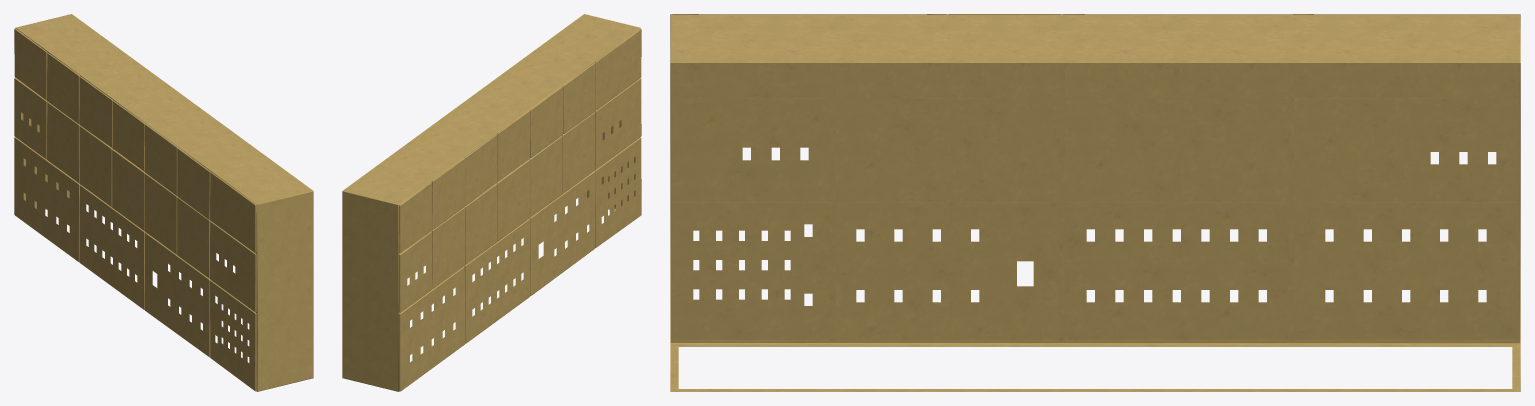
The model's file is YellowComputer.fbx.
The picture shows the model from 3 angles, left to right: view 1: azimuth 30°, elevation 25°; view 2: azimuth 150°, elevation 25°; view 3: azimuth 270°, elevation 25°; orthographic projection. The views are drawn at different scales.
Visible parts, largest first — view 1: Frame_Куб, Middle_Doors_Gen_Куб_054, Middle_Doors_Gen_Куб_001; view 2: Frame_Куб, Middle_Doors_Gen_Куб_054, Middle_Doors_Gen_Куб_001; view 3: Frame_Куб, Middle_Doors_Gen_Куб_001, Middle_Doors_Gen_Куб_054.
Part boxes in pixels (<box>): Frame_Куб: <box>14,14,313,391</box>; Middle_Doors_Gen_Куб_054: <box>79,125,145,230</box>; Middle_Doors_Gen_Куб_001: <box>144,173,210,278</box>; Frame_Куб: <box>342,14,641,391</box>; Middle_Doors_Gen_Куб_054: <box>464,159,530,264</box>; Middle_Doors_Gen_Куб_001: <box>529,112,595,216</box>; Frame_Куб: <box>670,14,1520,391</box>; Middle_Doors_Gen_Куб_001: <box>835,103,1059,202</box>; Middle_Doors_Gen_Куб_054: <box>1065,103,1288,202</box>.
Bounding box in the file's own units: 74.21 × 228 × 534.
2 materials, 2 textured.
